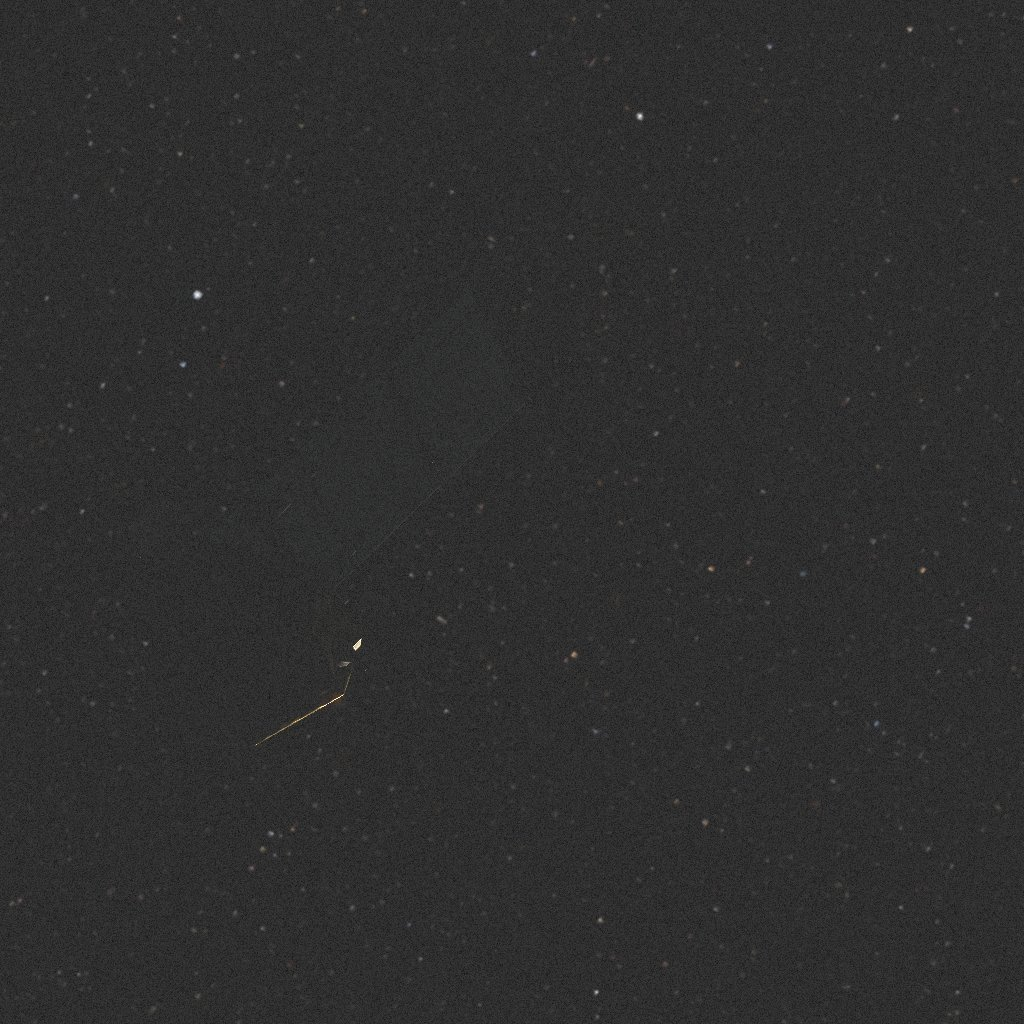earth_observation_sat_1: (128, 288, 525, 749)
